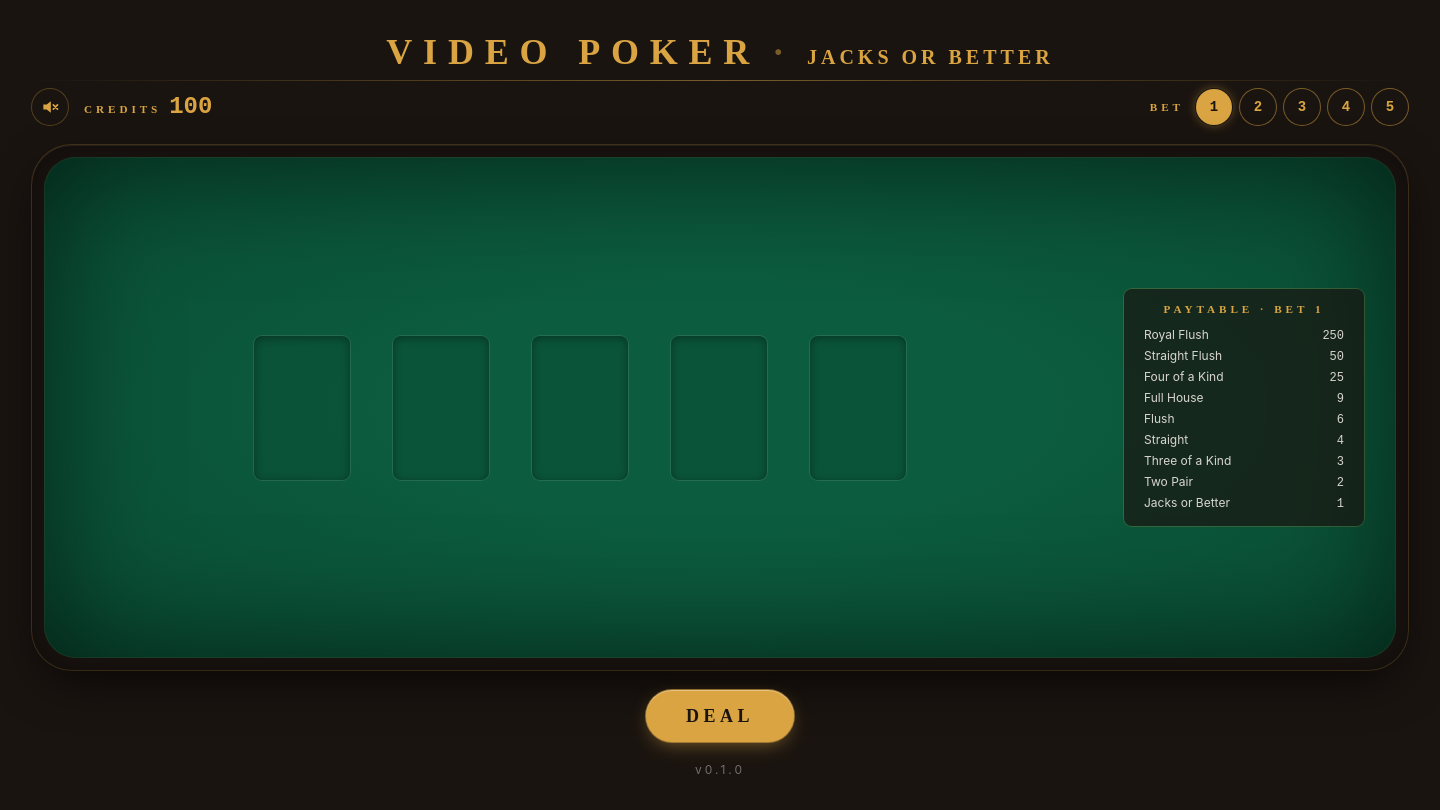
the economy › DEAL deducts exactly the stake from the rail
Click the button named "BET 3".
click(1302, 107)  # box [1284,89,1320,125]
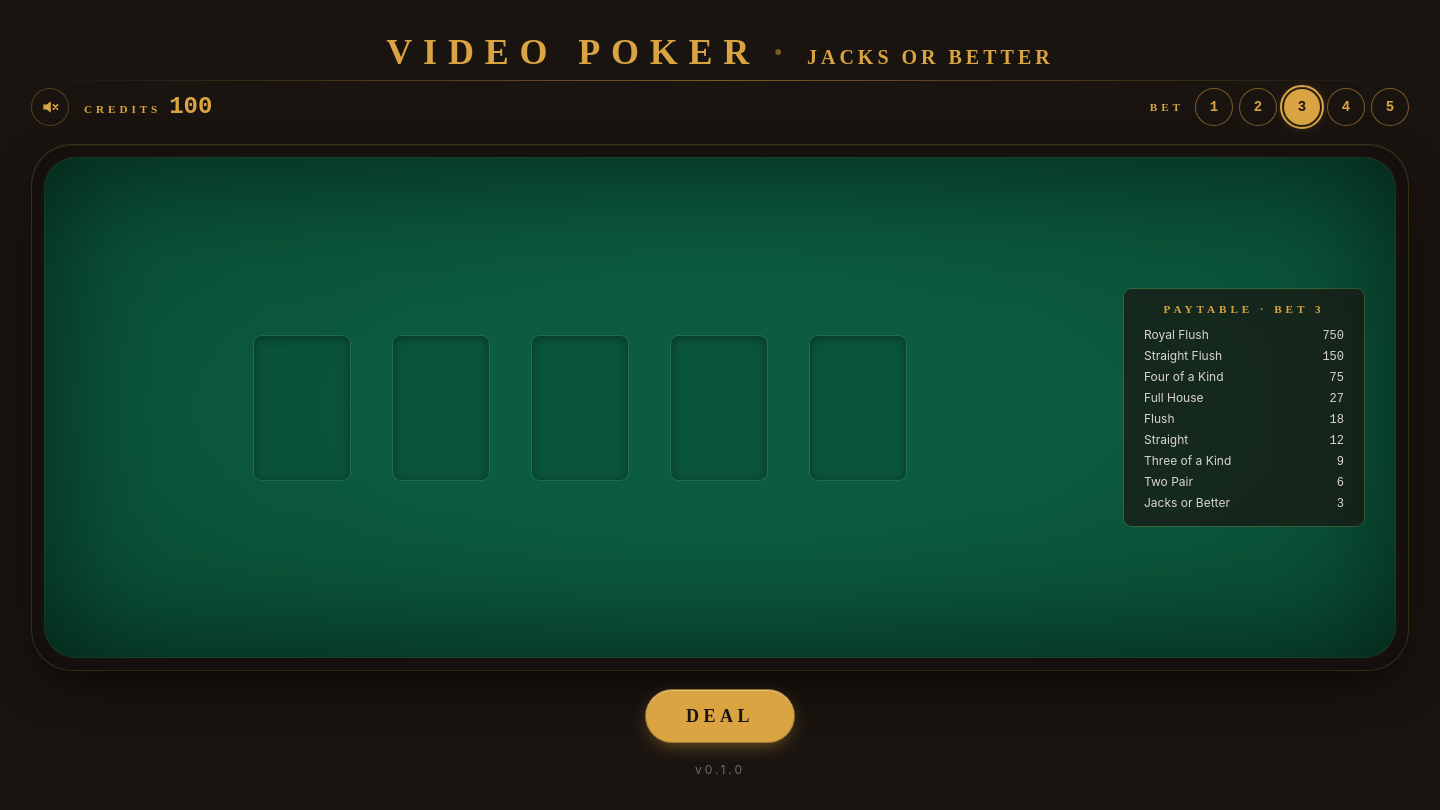
Click the button "DEAL".
click(720, 716)  # box [646,690,794,742]
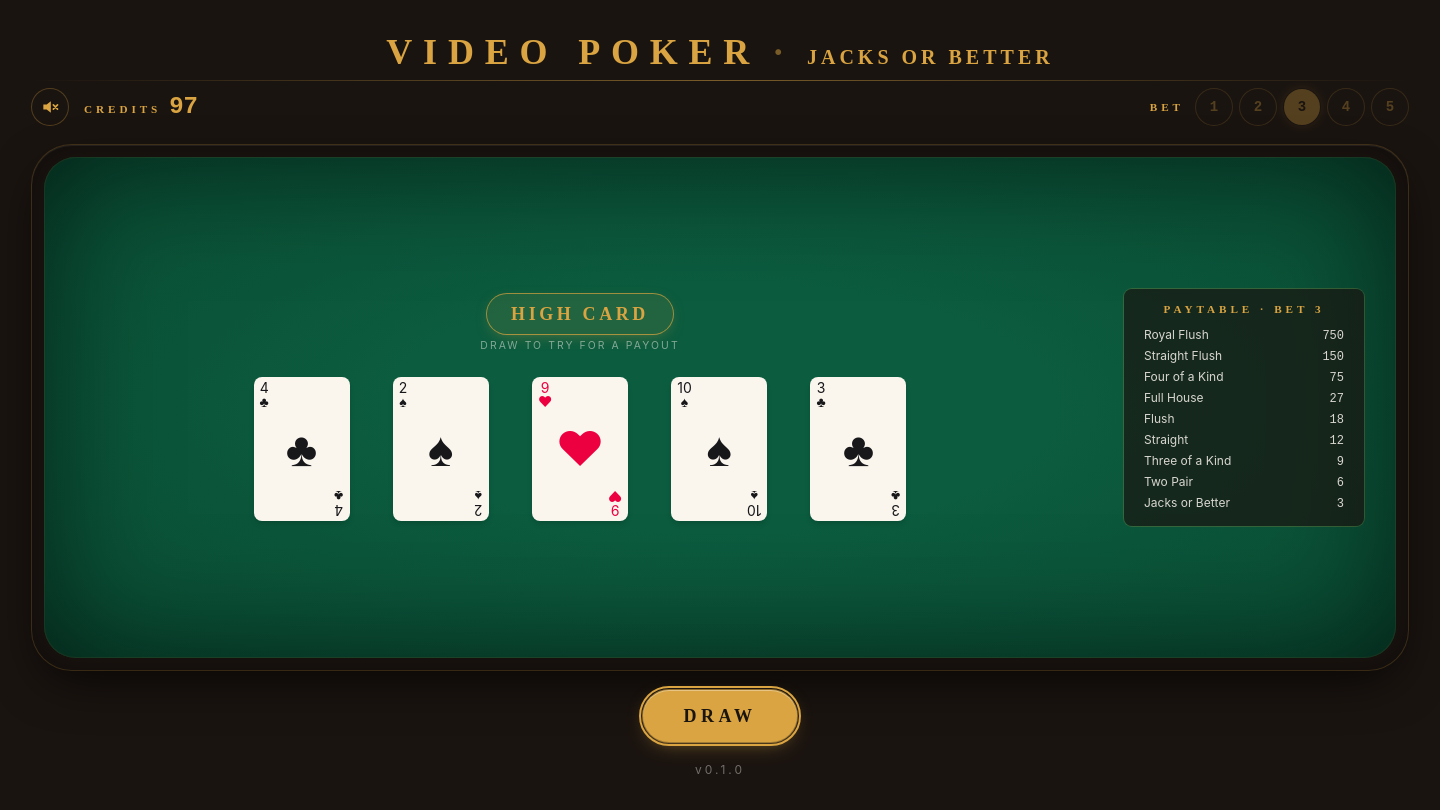
expect the text with test id "credits" reads "97": met, box [169,93,198,120]
